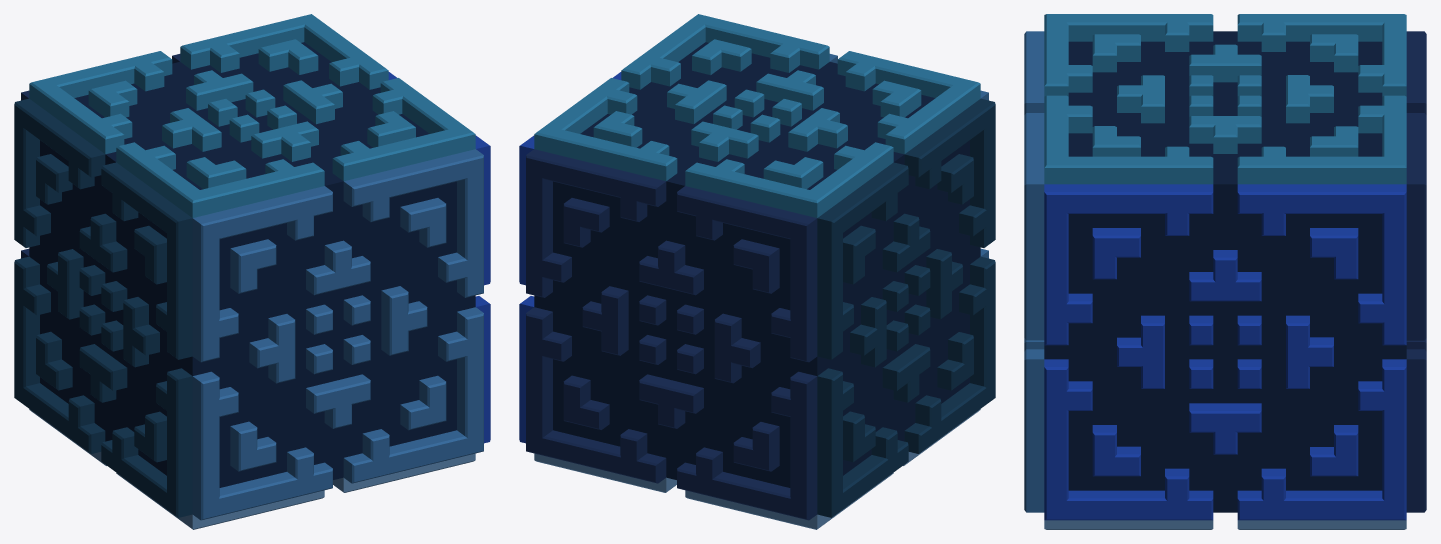
File: level1Trevor_V2 (2).fbx
3 renders of one model, left to right at view 1: azimuth 30°, elevation 25°; view 2: azimuth 150°, elevation 25°; view 3: azimuth 270°, elevation 25°, orthographic. The views are drawn at different scales.
Parts seen in each view (by area): view 1: Cube_1, RightWall, BackWall, TopWall, BottomWall, FrontWall; view 2: Cube_1, LeftWall, BackWall, TopWall, BottomWall, FrontWall; view 3: Cube_1, FrontWall, TopWall, RightWall, LeftWall, BottomWall.
Boxes of the visible parts, x1,y1,x2,y2 form: Cube_1: (29, 42, 475, 487); RightWall: (192, 149, 483, 520); BackWall: (14, 98, 192, 517); TopWall: (29, 14, 475, 217); BottomWall: (29, 409, 475, 529); FrontWall: (388, 72, 490, 443); Cube_1: (534, 42, 980, 487); LeftWall: (526, 149, 817, 520); BackWall: (817, 98, 995, 517); TopWall: (534, 14, 980, 217); BottomWall: (534, 409, 980, 529); FrontWall: (519, 72, 621, 443); Cube_1: (1044, 31, 1406, 512); FrontWall: (1044, 184, 1406, 520); TopWall: (1044, 14, 1406, 184); RightWall: (1024, 31, 1044, 512); LeftWall: (1406, 31, 1426, 512); BottomWall: (1044, 520, 1406, 529).
Size of the model in its own units: 50.03 by 50.03 by 50.03.
